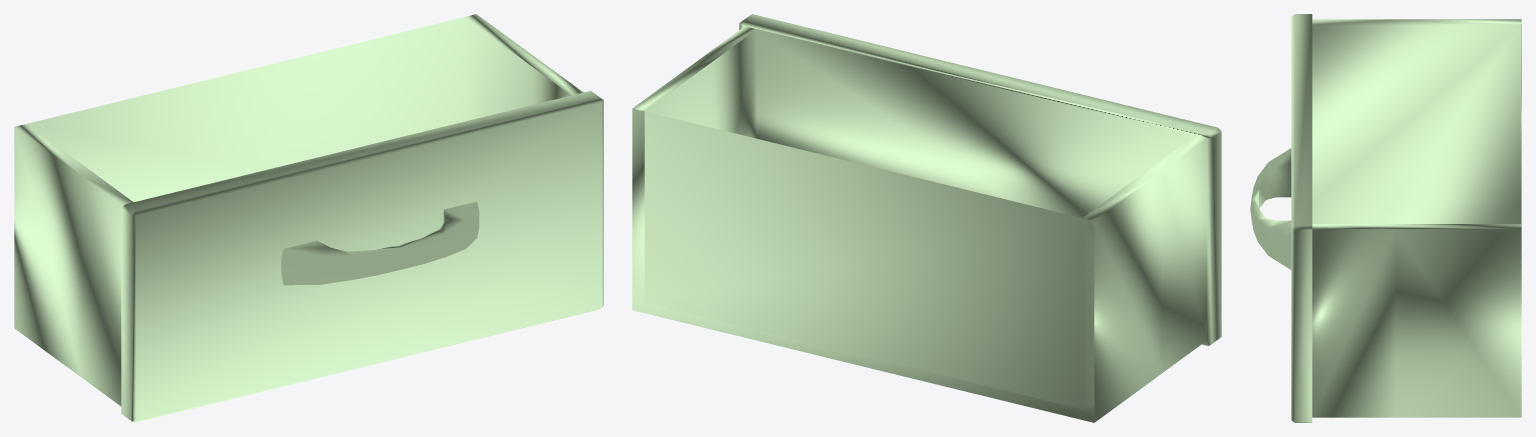
The model's file is 5_material12_cassetto_scrivania.fbx.
The picture shows the model from 3 angles, left to right: view 1: azimuth 30°, elevation 25°; view 2: azimuth 150°, elevation 25°; view 3: azimuth 270°, elevation 25°; orthographic projection. The views are drawn at different scales.
Parts seen in each view (by area): view 1: 5_material12_cassetto_scrivania_Nuovo; view 2: 5_material12_cassetto_scrivania_Nuovo; view 3: 5_material12_cassetto_scrivania_Nuovo.
Boxes of the visible parts, x1=… form: 5_material12_cassetto_scrivania_Nuovo: x1=14, y1=14, x2=603, y2=422; 5_material12_cassetto_scrivania_Nuovo: x1=632, y1=14, x2=1221, y2=422; 5_material12_cassetto_scrivania_Nuovo: x1=1250, y1=14, x2=1521, y2=422.
Bounding box in the file's own units: 244 × 104 × 130.
